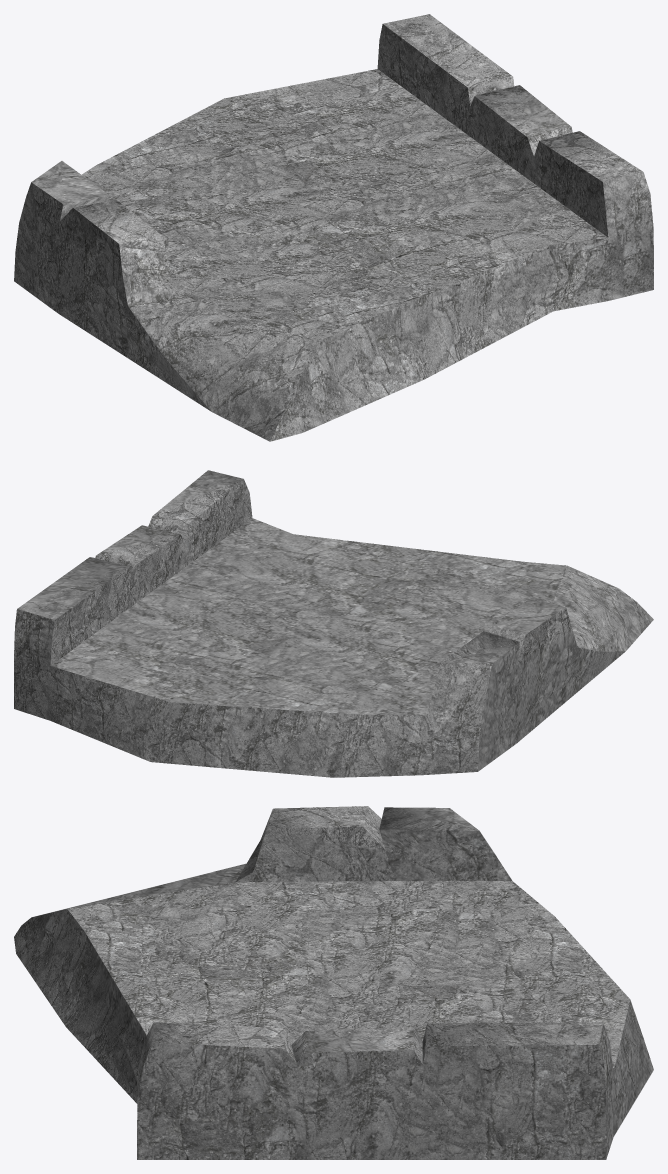
Rendered from materials_3_road_7.fbx.
3 views of the same model, one above another, from view 1: azimuth 30°, elevation 25°; view 2: azimuth 150°, elevation 25°; view 3: azimuth 270°, elevation 25° (orthographic). The views are drawn at different scales.
Visible parts, largest first — view 1: materials_3_road_7; view 2: materials_3_road_7; view 3: materials_3_road_7.
Part boxes in pixels (x1,y1,x2,y2): materials_3_road_7: (14,14,653,441); materials_3_road_7: (14,470,653,777); materials_3_road_7: (14,806,653,1159).
Bounding box in the file's own units: 234 × 54.29 × 267.
